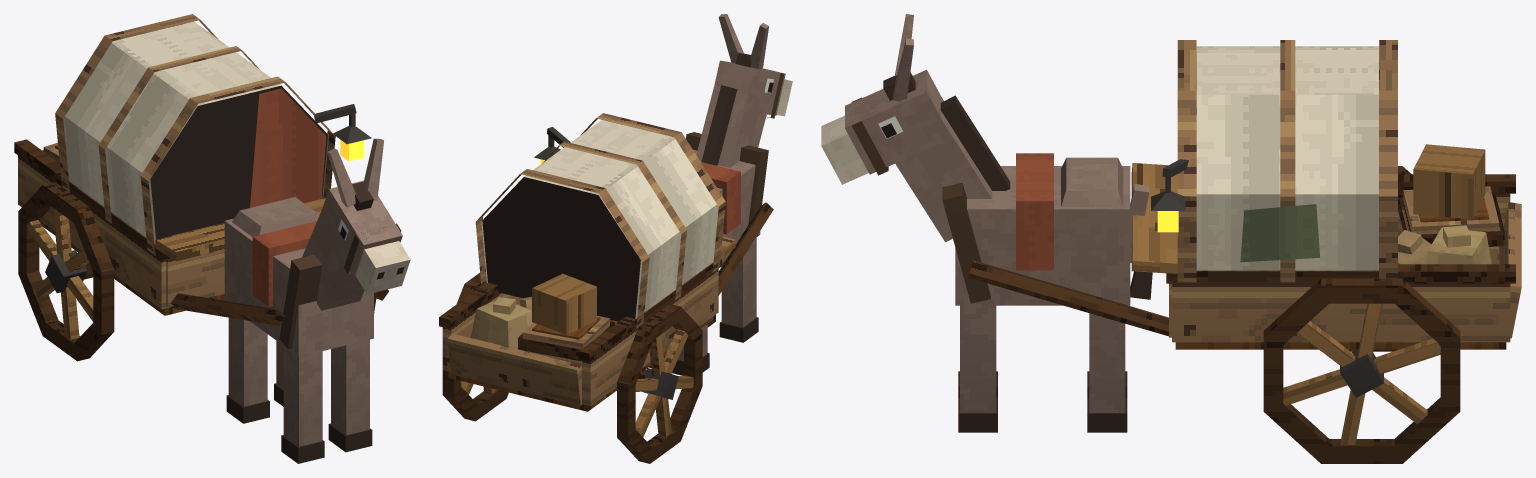
The model's file is wagon.glb.
The picture shows the model from 3 angles, left to right: view 1: azimuth 30°, elevation 25°; view 2: azimuth 150°, elevation 25°; view 3: azimuth 270°, elevation 25°; orthographic projection. The views are drawn at different scales.
Visible parts, largest first — view 1: wagon, wheel_r, leg_fr, leg_fl, leg_br, leg_bl, glow_lantern; view 2: wagon, wheel_r, leg_fr, wheel_l, leg_br; view 3: wagon, wheel_l, leg_fl, leg_bl.
Boxes of the visible parts, x1,y1,x2,y2 form: wagon: [14, 14, 410, 356]; wheel_r: [18, 182, 114, 361]; leg_fr: [281, 346, 324, 463]; leg_fl: [328, 339, 372, 452]; leg_br: [226, 317, 269, 423]; leg_bl: [274, 341, 283, 406]; glow_lantern: [340, 140, 364, 161]; wagon: [439, 14, 792, 411]; wheel_r: [617, 304, 702, 463]; leg_fr: [719, 237, 758, 342]; wheel_l: [442, 273, 508, 421]; leg_br: [672, 324, 709, 375]; wagon: [821, 14, 1521, 352]; wheel_l: [1263, 278, 1460, 463]; leg_fl: [958, 305, 997, 432]; leg_bl: [1087, 313, 1127, 432].
Bounding box in the file's own units: 1.63 × 2.23 × 3.69.
Materials: 20 (13 with a texture image).
